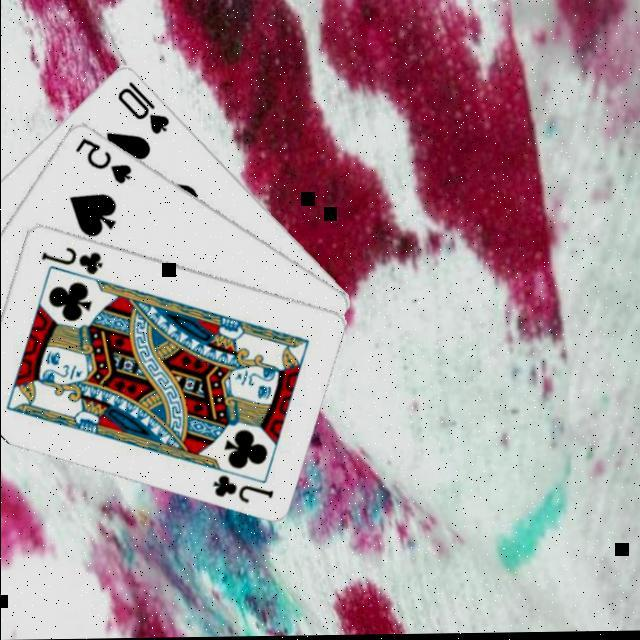10S: (114, 79, 174, 140)
5S: (74, 135, 136, 190)
JC: (38, 243, 106, 280), (210, 472, 278, 509)
